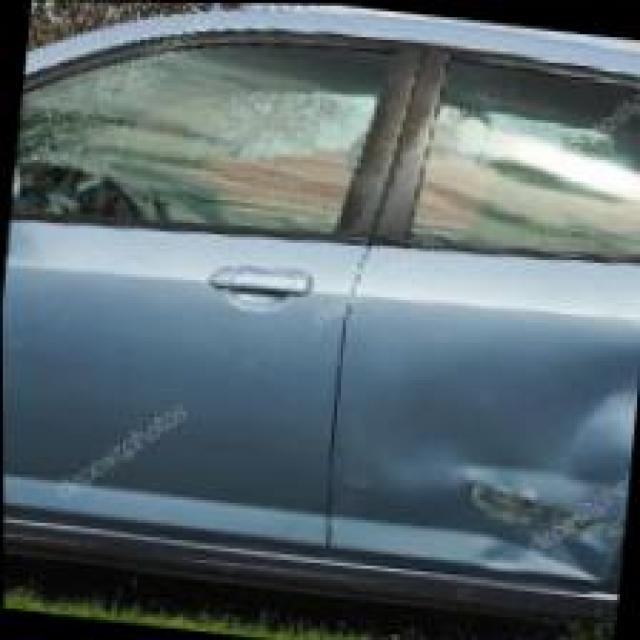car damage: (454, 373, 640, 584)
